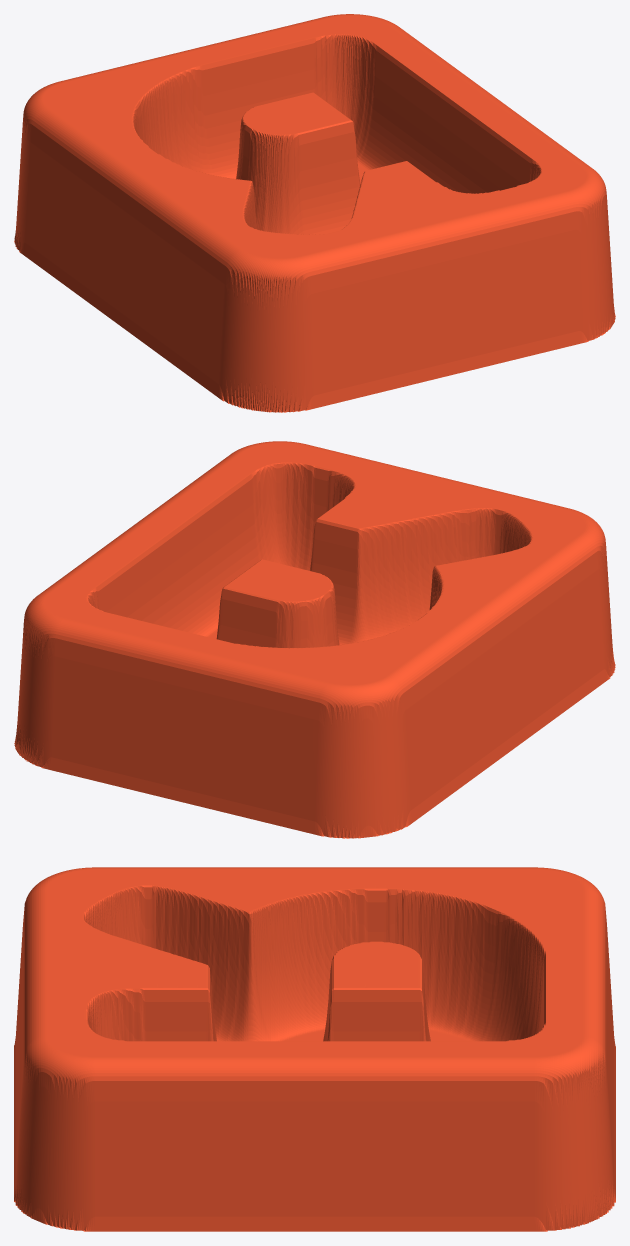
The model's file is mold.glb.
3 renders of one model, top to bottom at view 1: azimuth 30°, elevation 25°; view 2: azimuth 150°, elevation 25°; view 3: azimuth 270°, elevation 25°, orthographic. The views are drawn at different scales.
Visible parts, largest first — view 1: geometry_0; view 2: geometry_0; view 3: geometry_0.
Part boxes in pixels (x1,y1,x2,y2): geometry_0: (14,14,615,412); geometry_0: (14,441,615,838); geometry_0: (14,867,615,1231).
Size of the model in its own units: 0.0566 by 0.0197 by 0.067.
